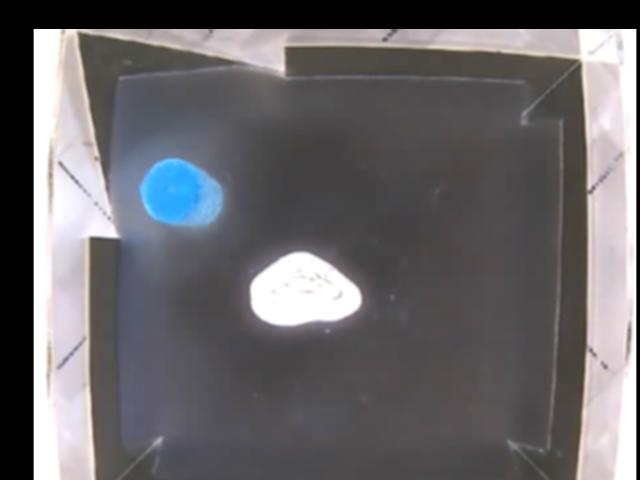Carrot: (137, 156, 222, 228)
Pebble: (250, 252, 363, 323)
